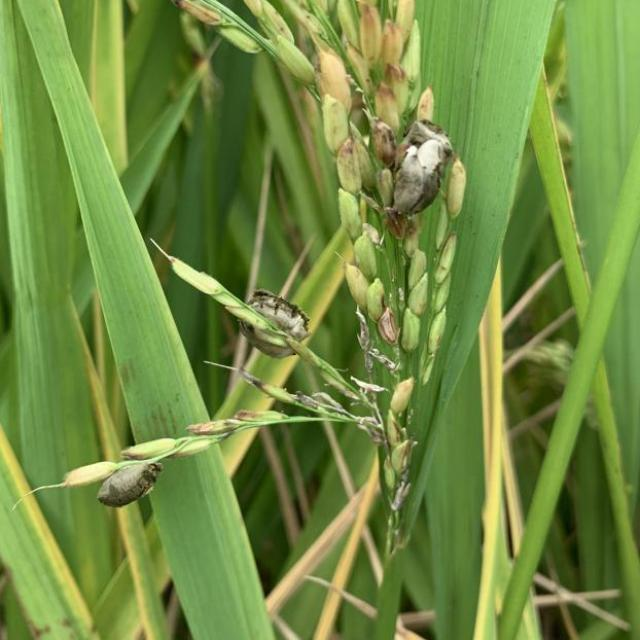Leaf_Scald: (378, 114, 457, 219), (234, 285, 314, 363), (90, 458, 166, 508)
